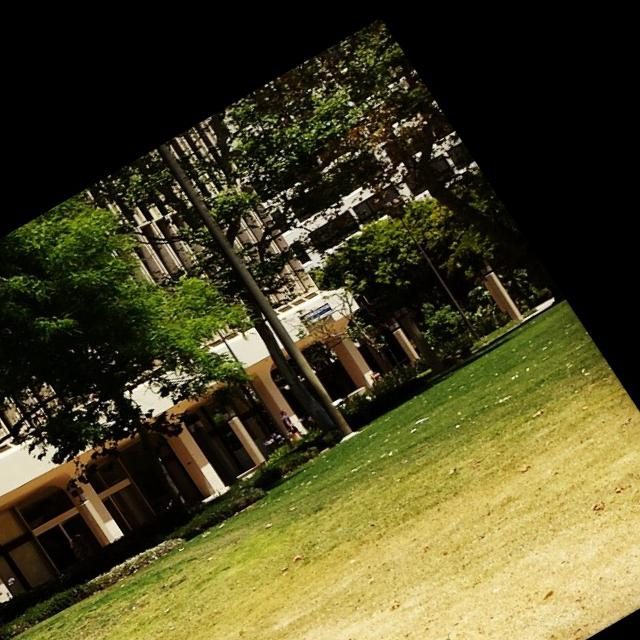patch: (389, 506, 507, 633), (536, 483, 626, 628), (294, 569, 352, 628)
